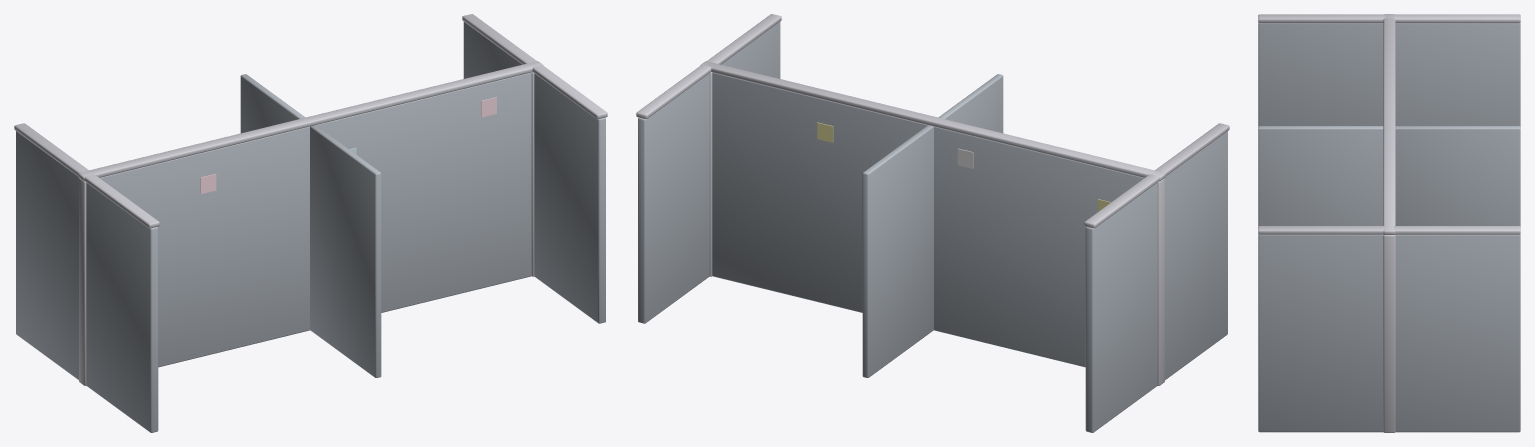
Rendered from cubicle.glb.
3 renders of one model, left to right at view 1: azimuth 30°, elevation 25°; view 2: azimuth 150°, elevation 25°; view 3: azimuth 270°, elevation 25°, orthographic. The views are drawn at different scales.
Visible parts, largest first — view 1: Cube, Cube.005, Cube.010; view 2: Cube, Cube.005, Cube.010; view 3: Cube, Cube.005.
Part boxes in pixels (x1,y1,x2,y2): Cube: (16, 22, 605, 432); Cube.005: (14, 14, 607, 385); Cube.010: (200, 97, 496, 193); Cube: (638, 22, 1227, 432); Cube.005: (636, 14, 1229, 385); Cube.010: (817, 122, 1110, 211); Cube: (1258, 22, 1520, 432); Cube.005: (1258, 14, 1520, 432).
Bounding box in the file's own units: 2.94 × 1.28 × 1.5.
3 materials, 2 textured.
